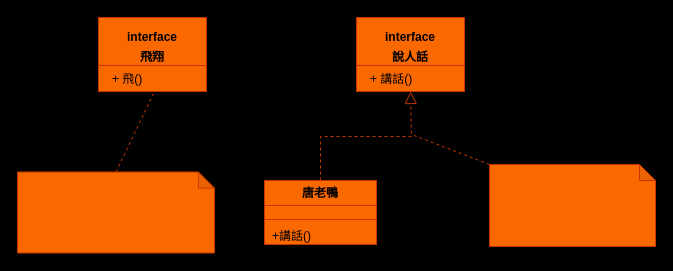
Image size: 673x271. Some labels were removed from this diagram. The centre of each missing label's shape, as x and y in pixels:
"接口 棒棒糖表示法 圓圈旁為接口名稱 接口方法在實現類中出現" belongs at pixel 572 205.
"接口 矩形表示法，頂端有 interface 第一行:接口名稱 第二行:接口方法" belongs at pixel 115 212.
